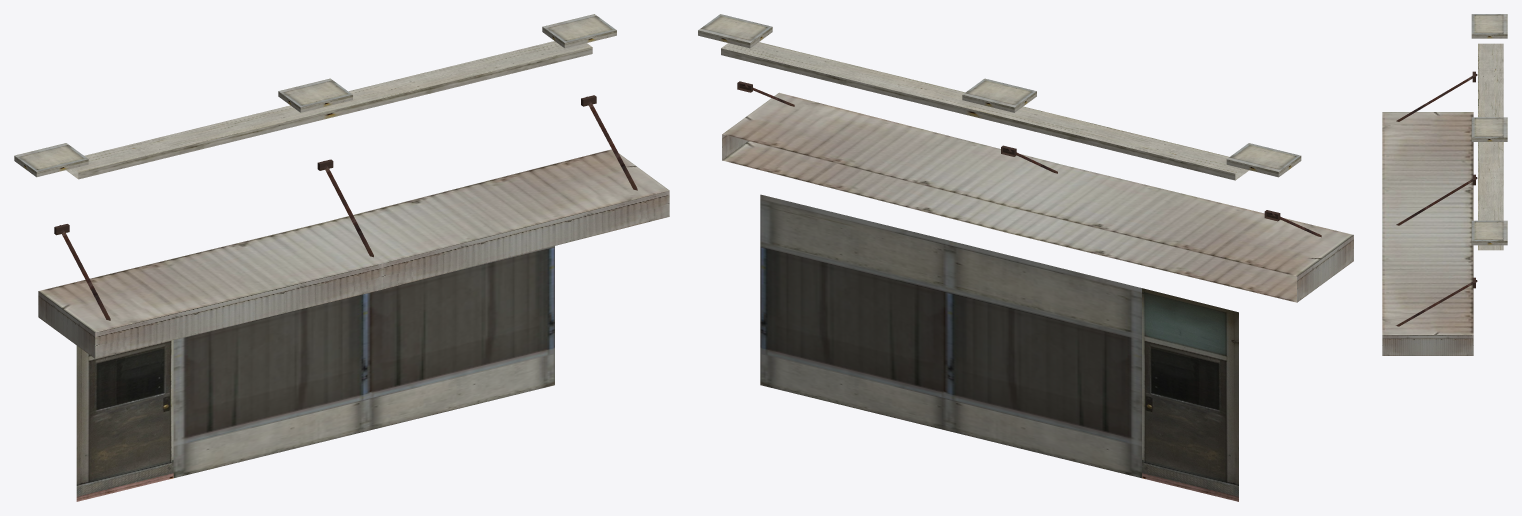
The model's file is rural_storesmall_1_rural_facade_flr_2_0_lev2.glb.
3 views of the same model, side by side, from view 1: azimuth 30°, elevation 25°; view 2: azimuth 150°, elevation 25°; view 3: azimuth 270°, elevation 25° (orthographic). The views are drawn at different scales.
Visible parts, largest first — view 1: rural_storesmall_1_rural_facade_flr_2_0_lev2; view 2: rural_storesmall_1_rural_facade_flr_2_0_lev2; view 3: rural_storesmall_1_rural_facade_flr_2_0_lev2.
Boxes of the visible parts, left/top/right/bottom form: rural_storesmall_1_rural_facade_flr_2_0_lev2: left=14, top=14, right=669, bottom=501; rural_storesmall_1_rural_facade_flr_2_0_lev2: left=698, top=14, right=1353, bottom=501; rural_storesmall_1_rural_facade_flr_2_0_lev2: left=1382, top=14, right=1507, bottom=355.
Size of the model in its own units: 6 by 3.46 by 1.4.
1 material, 1 textured.
